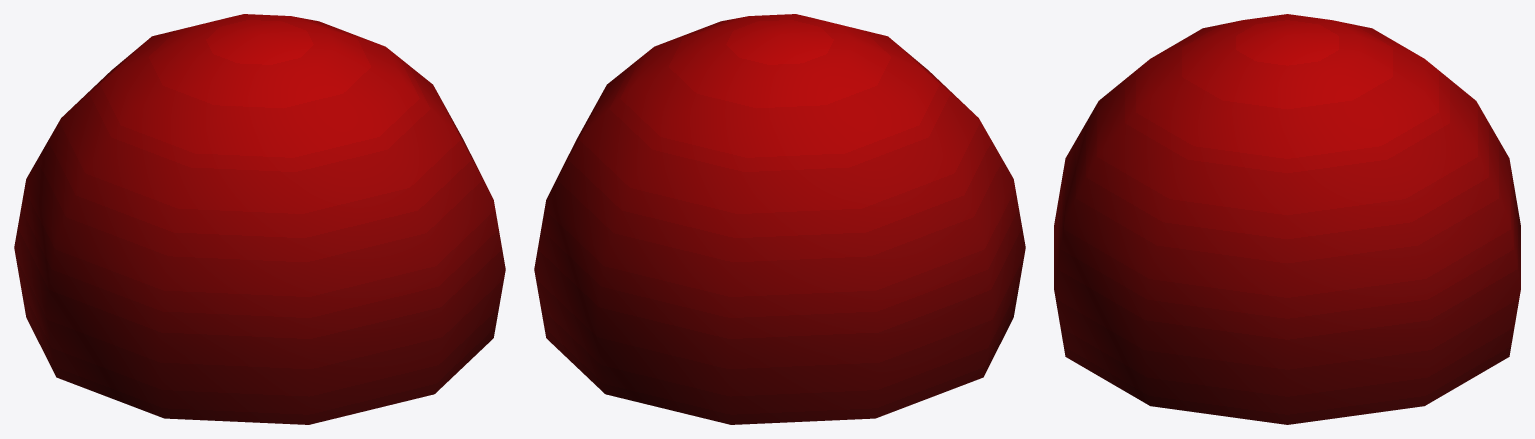
Rendered from SM_HammerTower_Button.fbx.
3 views of the same model, side by side, from view 1: azimuth 30°, elevation 25°; view 2: azimuth 150°, elevation 25°; view 3: azimuth 270°, elevation 25° (orthographic).
Visible parts, largest first — view 1: pSphere1; view 2: pSphere1; view 3: pSphere1.
Part boxes in pixels (box(x1,y1,x2,y2)): pSphere1: box(14, 14, 505, 424); pSphere1: box(534, 14, 1025, 424); pSphere1: box(1054, 14, 1520, 424).
Bounding box in the file's own units: 47.49 × 31.08 × 45.17.
